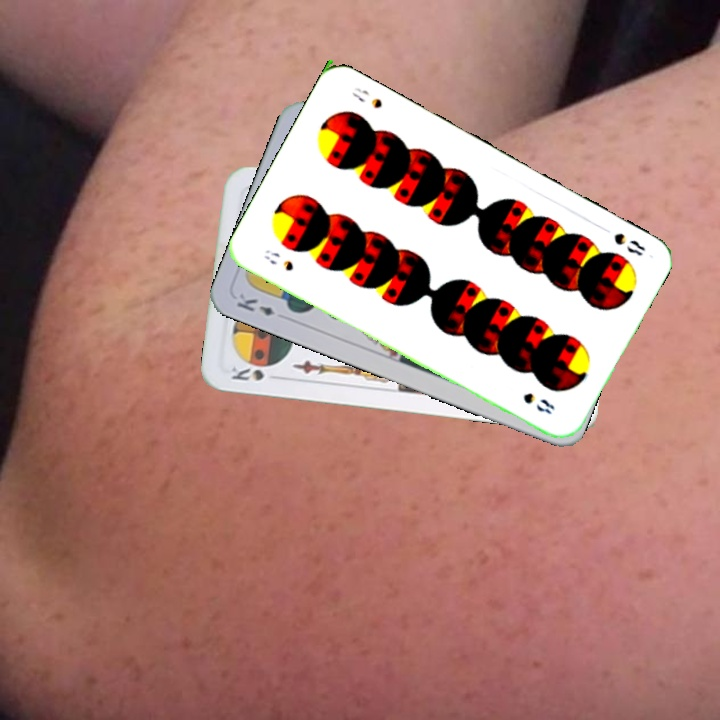EK: (232, 289, 278, 319)
S8: (609, 228, 648, 259), (260, 245, 296, 274)
SK: (227, 361, 267, 384)
